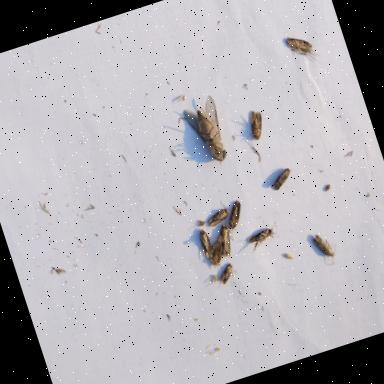pbw: (285, 28, 321, 66), (210, 215, 240, 258), (312, 228, 342, 266), (203, 232, 231, 270), (246, 224, 282, 252), (220, 198, 248, 232), (210, 260, 238, 288), (245, 107, 268, 140), (201, 206, 232, 230), (266, 166, 295, 191), (195, 224, 215, 259)
